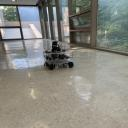cart: (43, 51, 74, 70)
